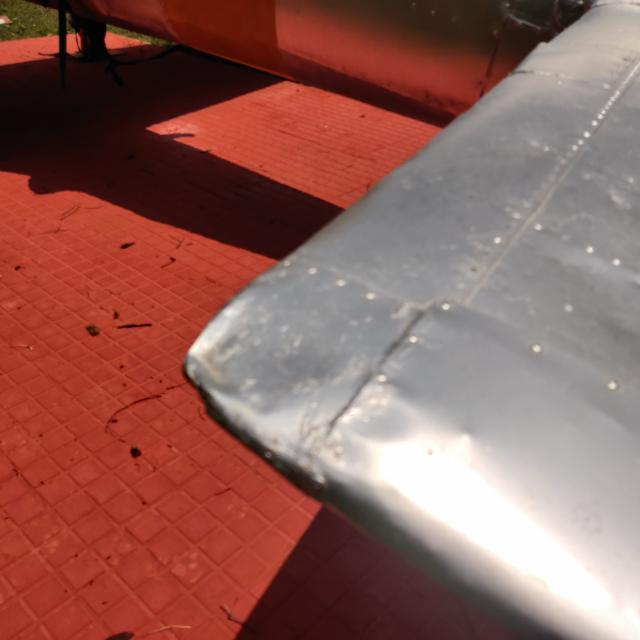dent: (154, 268, 328, 426)
